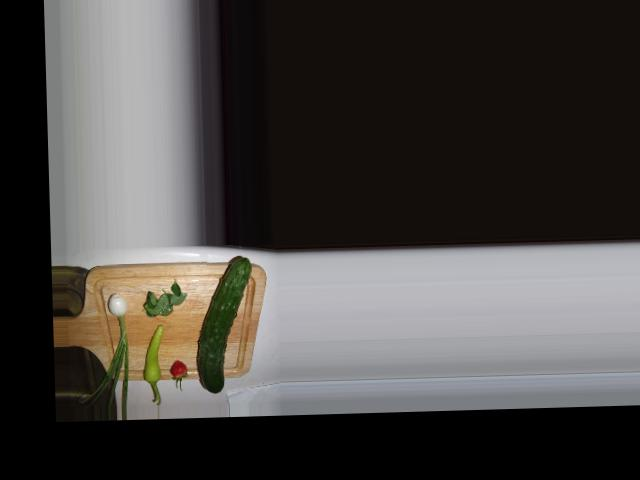cucumber: (195, 256, 255, 392)
